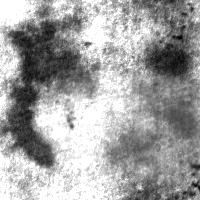patches: (33, 63, 155, 185), (107, 72, 200, 184), (4, 1, 60, 172), (30, 33, 95, 98), (100, 128, 163, 170), (145, 39, 193, 82), (158, 95, 199, 142)
